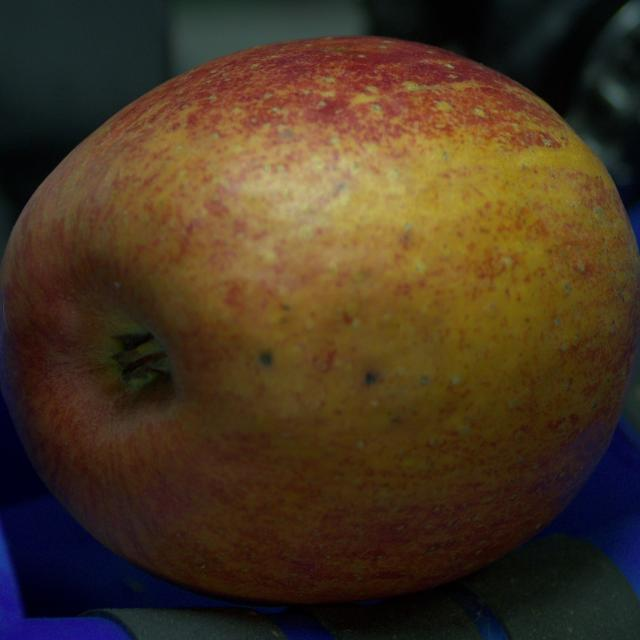apple: (0, 37, 639, 603)
pest: (364, 372, 378, 385), (259, 351, 272, 365)
